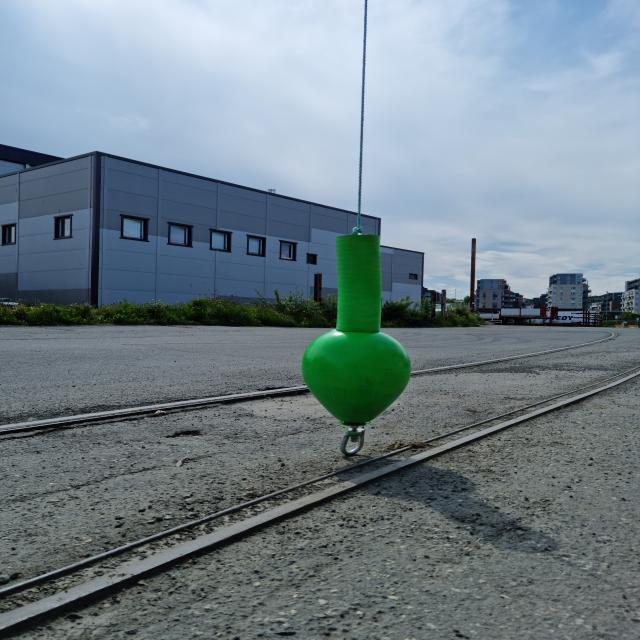green: (300, 235, 413, 425)
